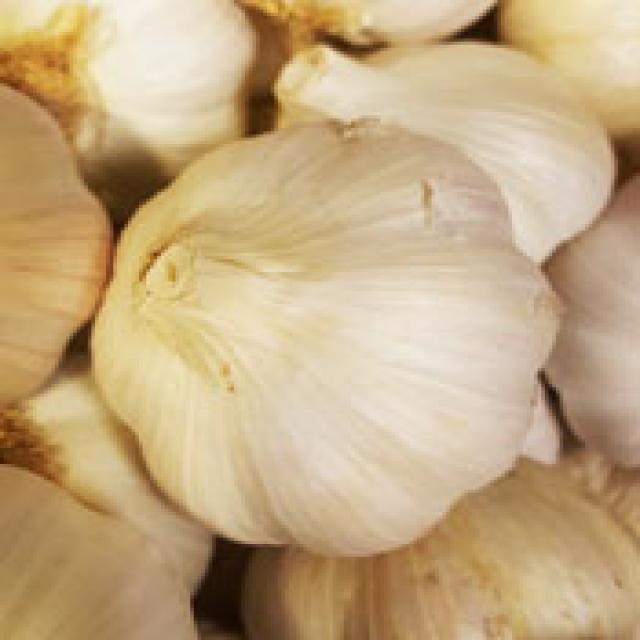garlic: (87, 135, 572, 549)
